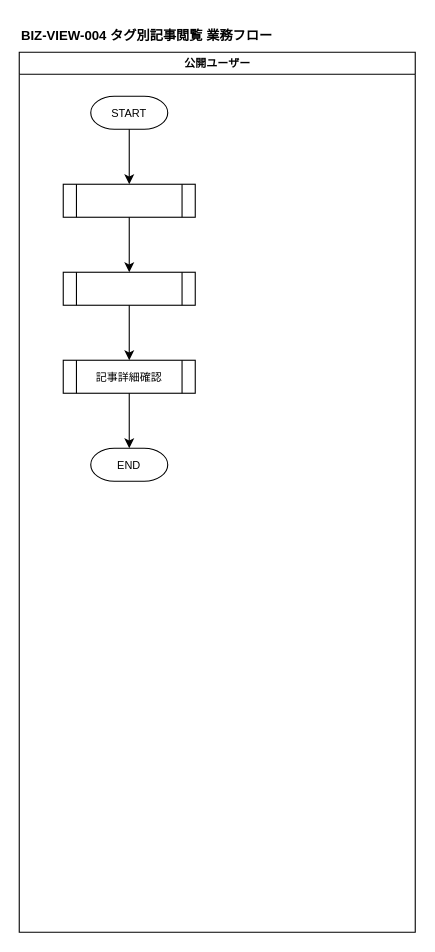
Some shapes in this 435 by 952 pixel diagram are drawn without their labels. Here are the shapes that lost their labels. From the top down, the centre of each, then its label:
At (x=128, y=200): "タグ選択".
At (x=128, y=288): "記事選択".
